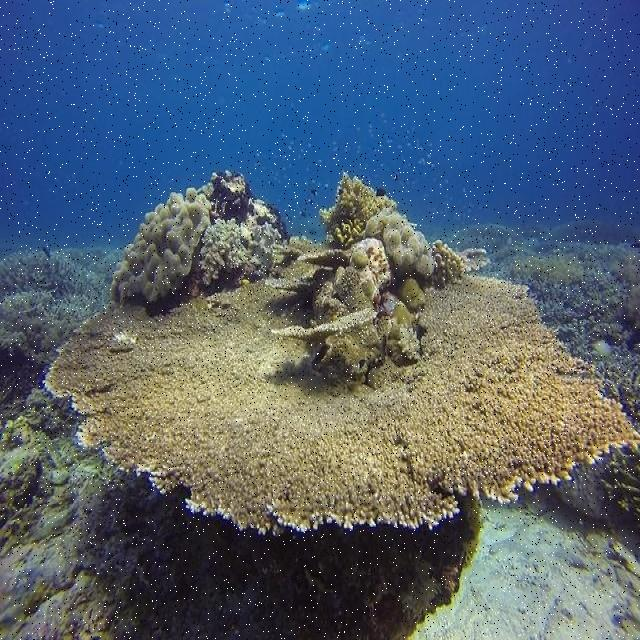reefs: (39, 170, 639, 536), (111, 183, 214, 301), (368, 211, 433, 275), (201, 218, 249, 285)
